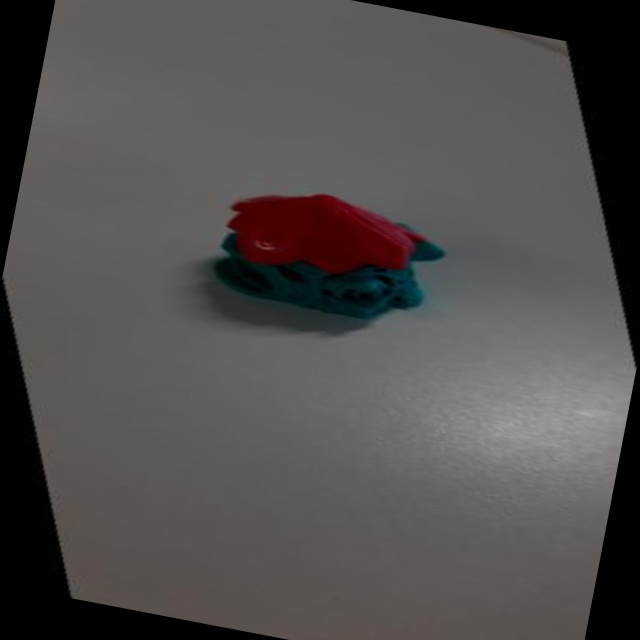House: (156, 155, 479, 351)
